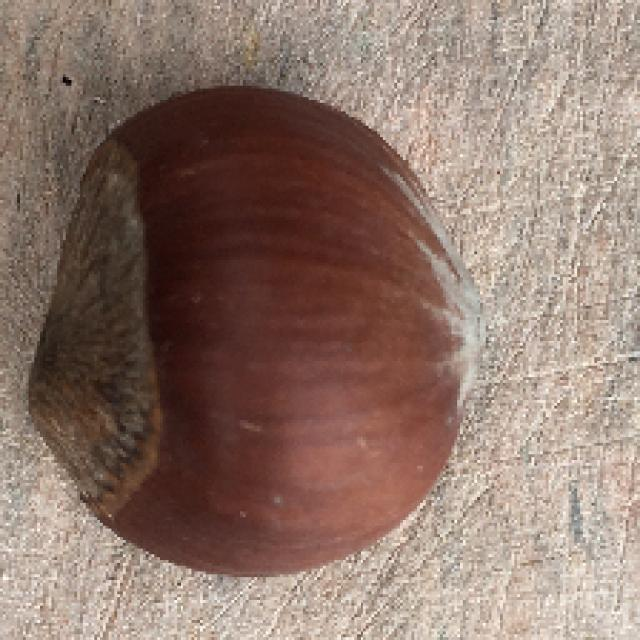qualityHazelnut: (26, 78, 493, 561)
